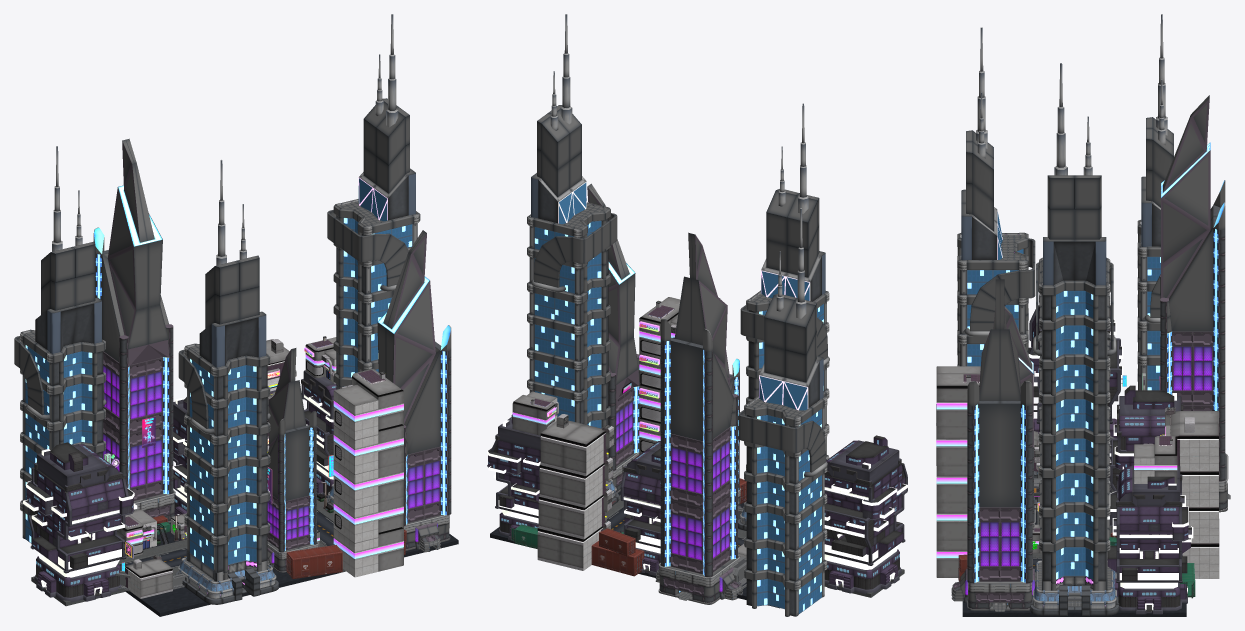
File: blockade.glb
3 views of the same model, side by side, from view 1: azimuth 30°, elevation 25°; view 2: azimuth 150°, elevation 25°; view 3: azimuth 270°, elevation 25° (orthographic). The views are drawn at different scales.
Visible parts, largest first — view 1: echo_01_242; view 2: echo_01_242; view 3: echo_01_242.
Part boxes in pixels (x1,y1,x2,y2): echo_01_242: [14, 14, 458, 616]; echo_01_242: [487, 14, 907, 616]; echo_01_242: [936, 14, 1230, 616].
Bounding box in the file's own units: 201 × 257 × 126.
Materials: 30 (28 with a texture image).
